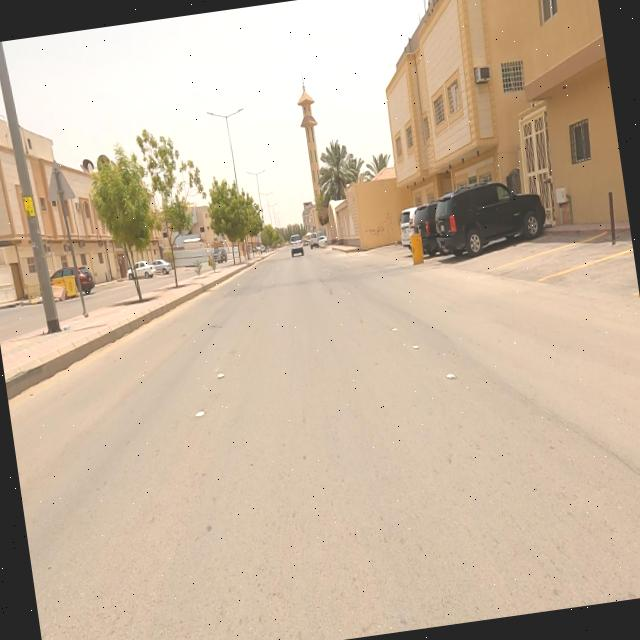Graffiti: (363, 213, 397, 245)
